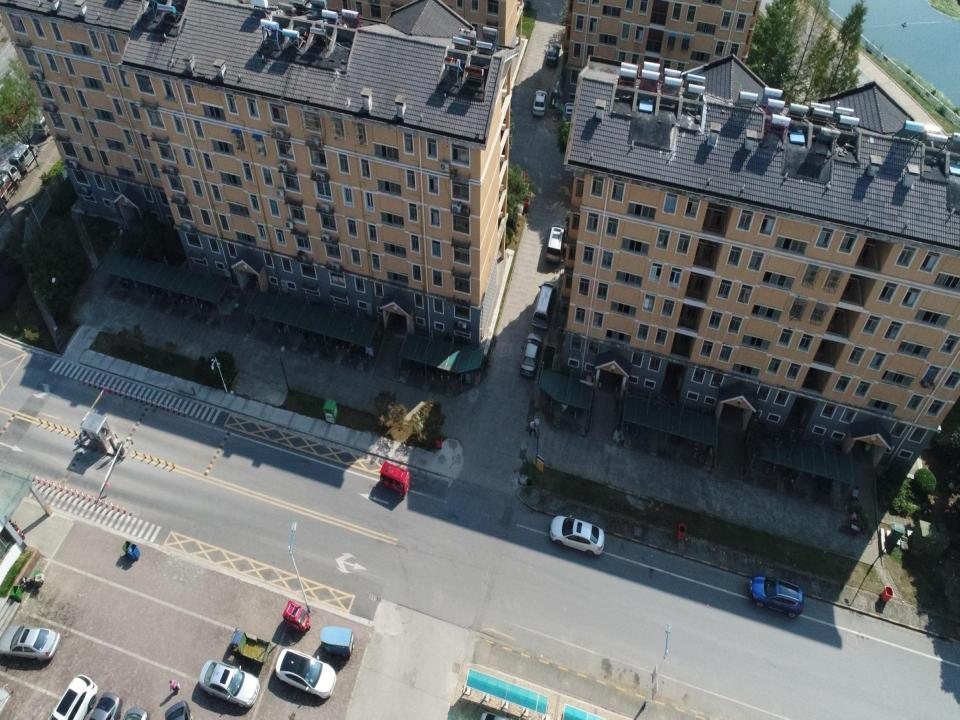car: (276, 648, 336, 700), (198, 659, 260, 709), (0, 617, 60, 665), (549, 514, 605, 556), (47, 674, 98, 720), (749, 576, 804, 618), (520, 332, 543, 378), (89, 689, 124, 719), (1, 96, 29, 128), (545, 224, 567, 263), (164, 699, 192, 719), (532, 90, 549, 116), (546, 44, 561, 66), (564, 101, 574, 129)
truck: (230, 627, 271, 664), (0, 164, 22, 211)
van: (532, 281, 557, 329), (8, 142, 39, 174), (33, 104, 54, 137)
